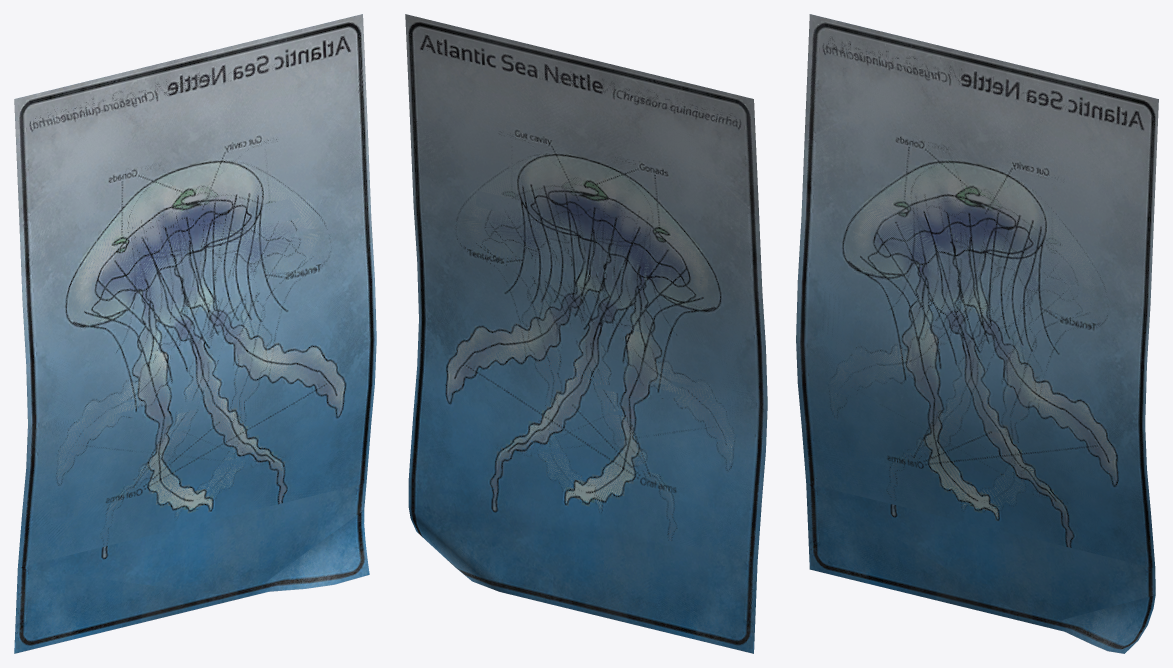
The model's file is posters_biolab_jelly.dae.
3 views of the same model, side by side, from view 1: azimuth 30°, elevation 25°; view 2: azimuth 150°, elevation 25°; view 3: azimuth 330°, elevation 25° (orthographic).
Parts seen in each view (by area): view 1: jelly; view 2: jelly; view 3: jelly.
Part boxes in pixels (bbox=[...]): jelly: bbox=[14, 14, 376, 653]; jelly: bbox=[405, 14, 767, 653]; jelly: bbox=[796, 14, 1158, 653].
Bounding box in the file's own units: 0.6577 × 1 × 0.0671.
